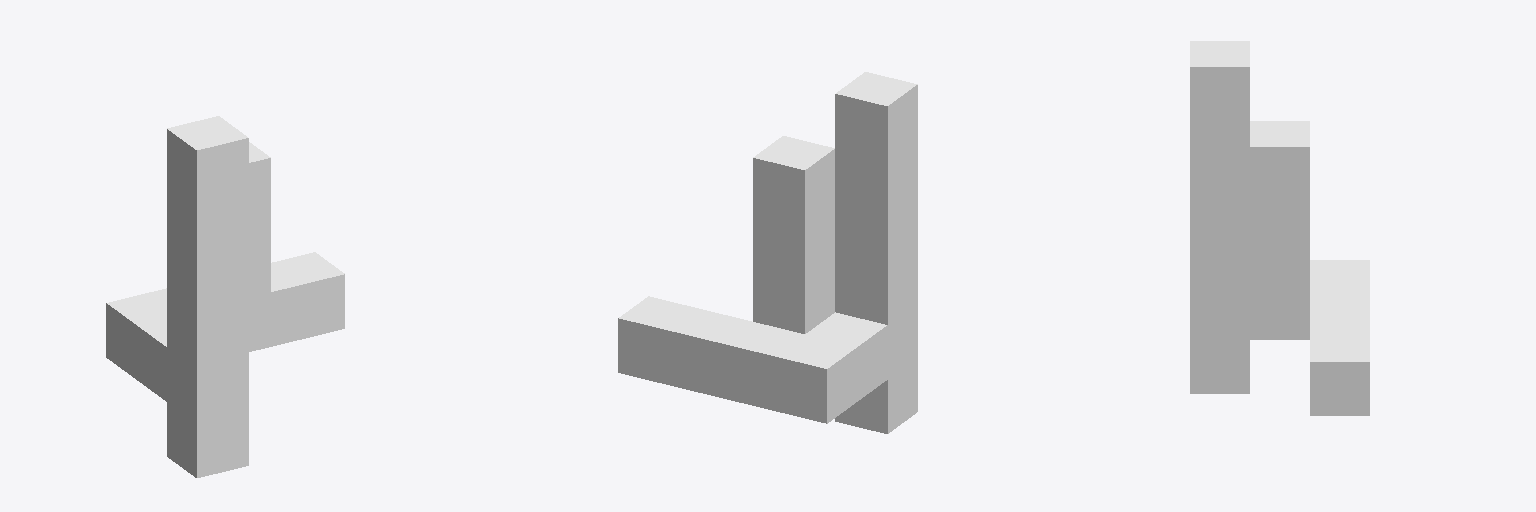
Rendered from YellowHouseParts-70.obj.
The picture shows the model from 3 angles: view 1: azimuth 30°, elevation 25°; view 2: azimuth 150°, elevation 25°; view 3: azimuth 270°, elevation 25°; orthographic projection.
Visible parts, largest first — view 1: object 1; view 2: object 1; view 3: object 1.
Boxes of the visible parts, <box> form: object 1: <box>106,116,344,477</box>; object 1: <box>618,72,917,433</box>; object 1: <box>1190,41,1369,415</box>.
Bounding box in the file's own units: 0.4 × 0.6 × 0.3.